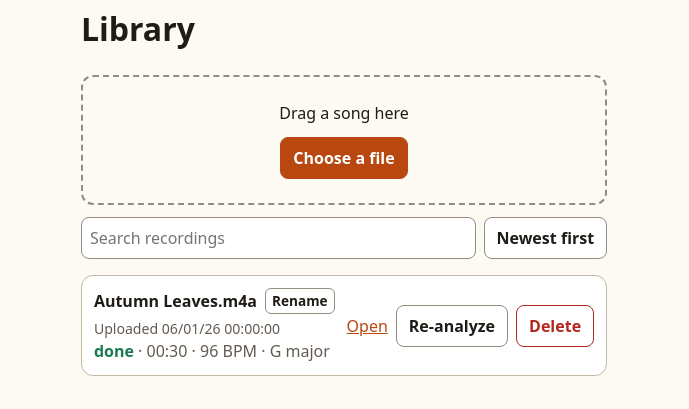
labels the rename field with the recording it renames
Expected: the text "Autumn Leaves.m4a" is shown, [94,289,257,313]
Click the button "Rename".
click(300, 301)  # box [265,288,334,314]
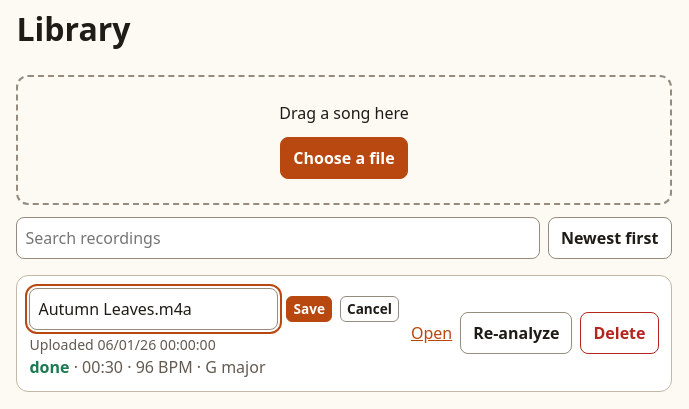
Expected: the field named "rename autumn leaves" is shown, [30,288,278,330]
